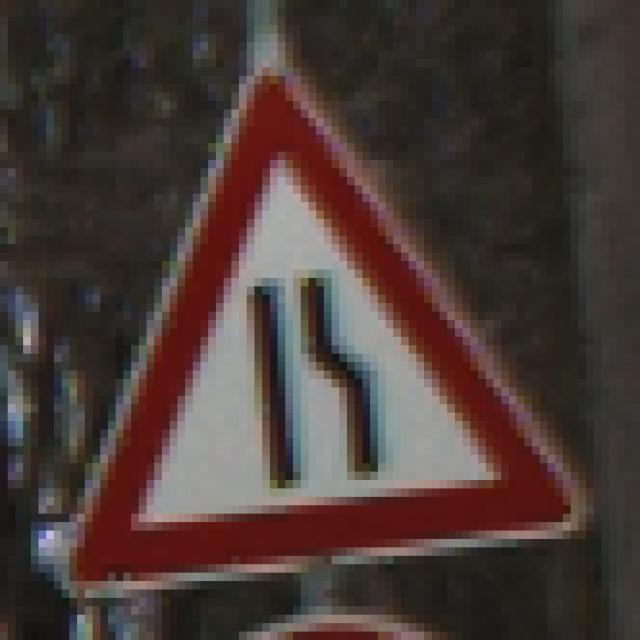narrow road ahead: (60, 66, 582, 596)
